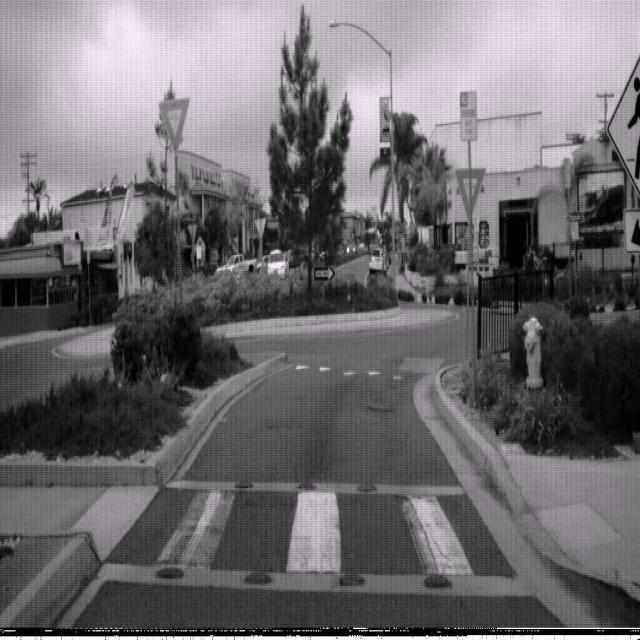yield: (158, 96, 190, 154), (454, 165, 486, 222)
